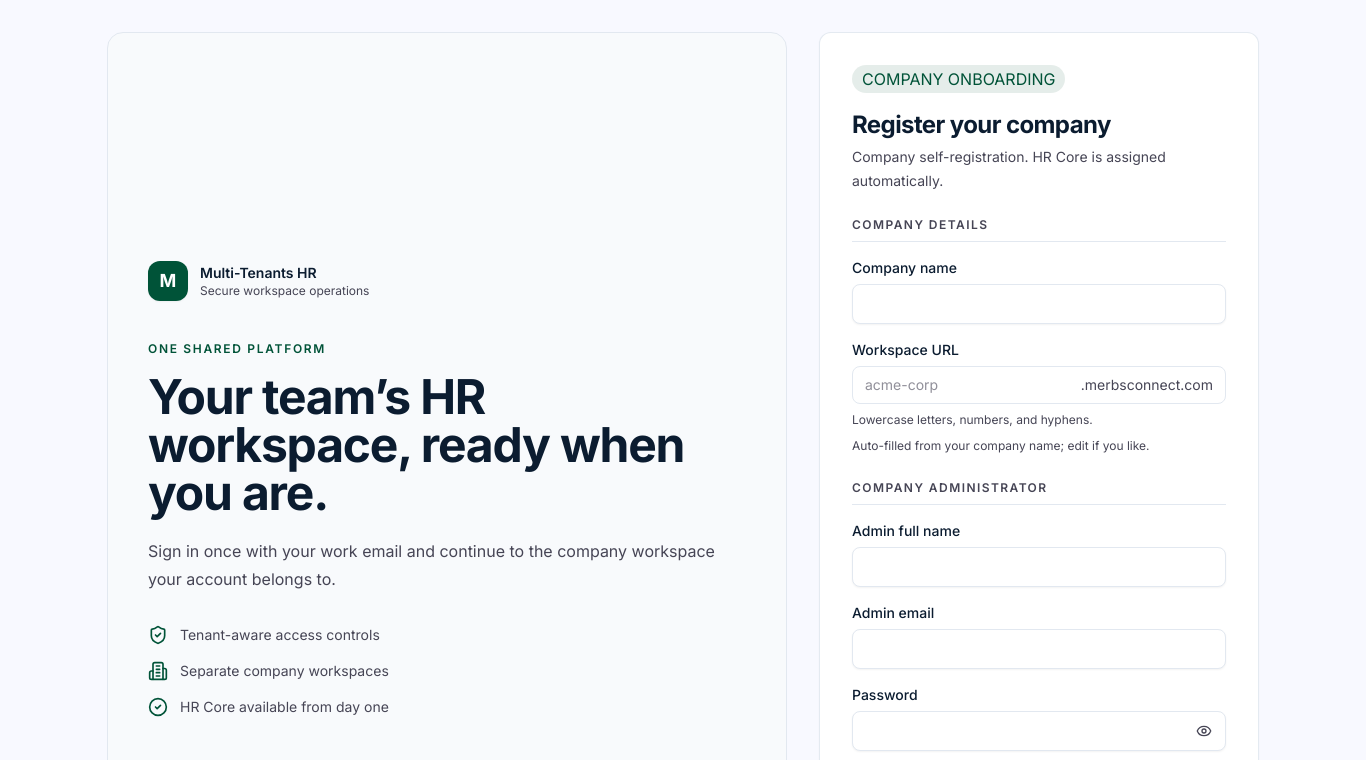
RegisterPage UX › auto-derives the slug from the company name
This screenshot has width=1366, height=760.
In the field labelled "Company name": (1039, 304) x1=852 y1=284 x2=1226 y2=324, type "Acme Corp!"
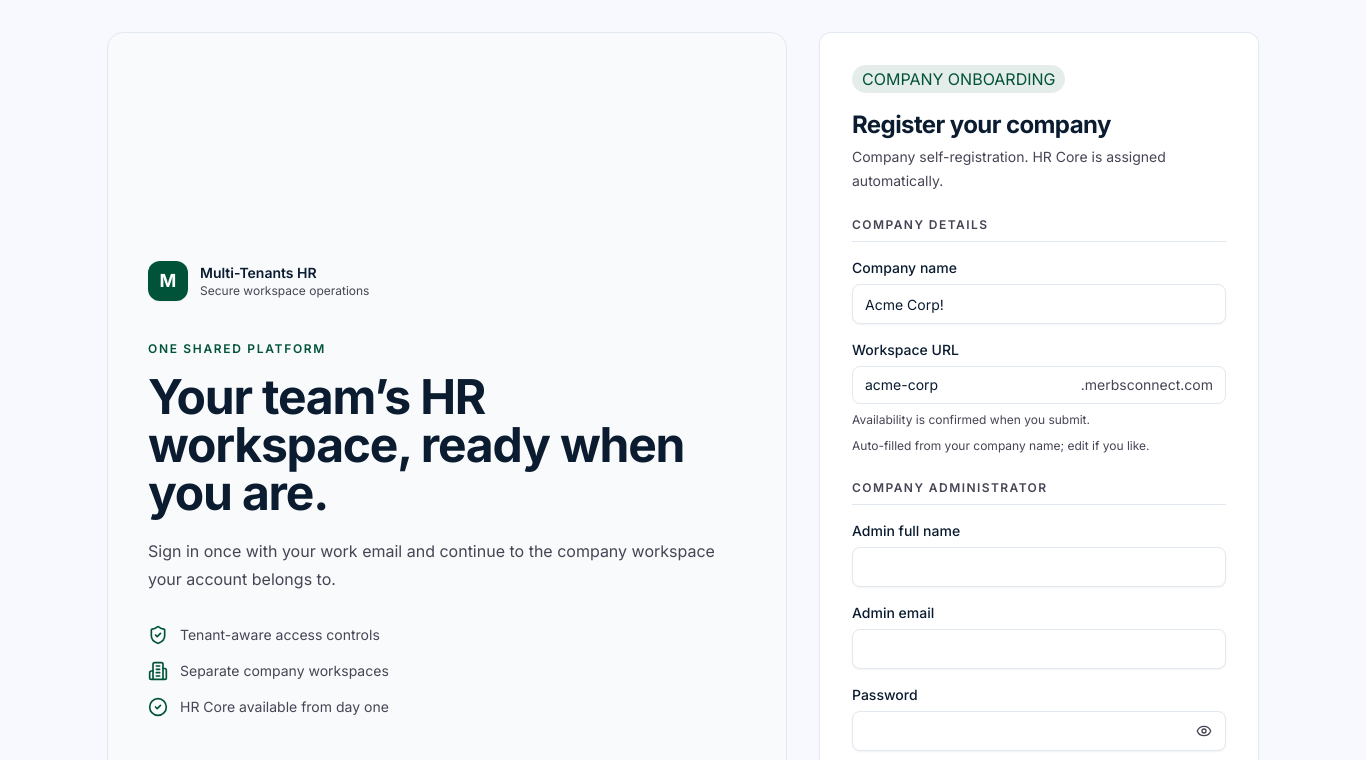
Expected: the field labelled "Workspace URL" holds "acme-corp", x1=853 y1=367 x2=1081 y2=403
